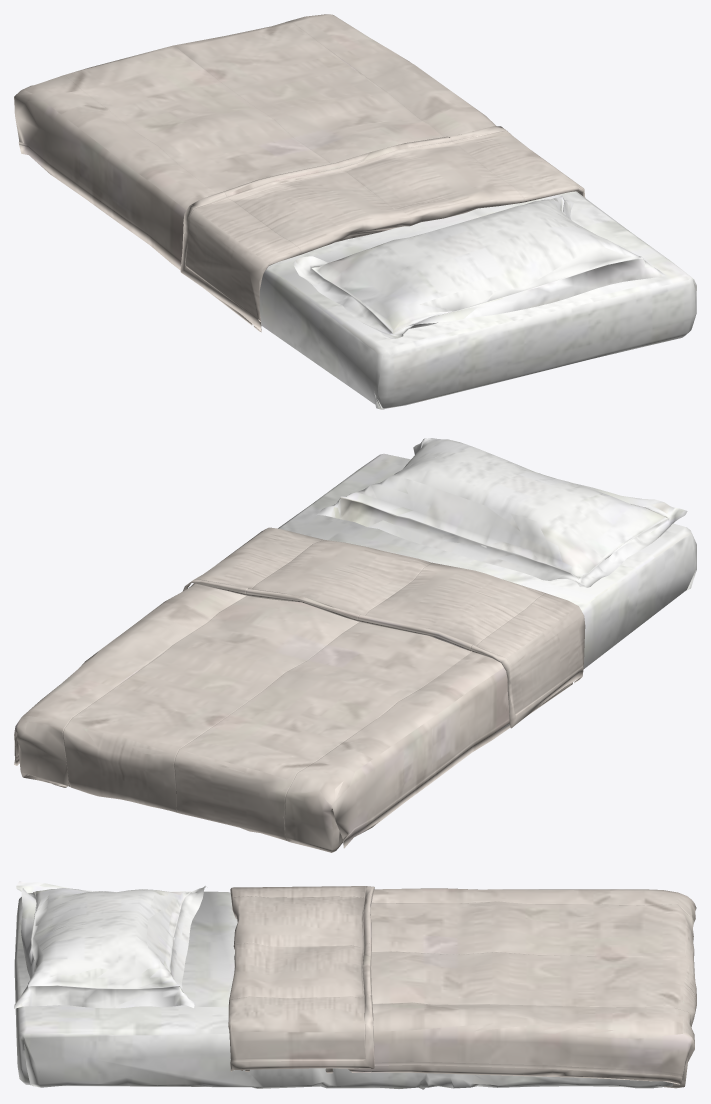
Rendered from 장식품08.glb.
3 renders of one model, top to bottom at view 1: azimuth 30°, elevation 25°; view 2: azimuth 150°, elevation 25°; view 3: azimuth 270°, elevation 25°, orthographic. The views are drawn at different scales.
Parts seen in each view (by area): view 1: blunket_StaticMeshComponent0, sheet01_StaticMeshComponent0, pillow_StaticMeshComponent0; view 2: blunket_StaticMeshComponent0, pillow_StaticMeshComponent0, sheet01_StaticMeshComponent0; view 3: blunket_StaticMeshComponent0, sheet01_StaticMeshComponent0, pillow_StaticMeshComponent0.
Part boxes in pixels (x1,y1,x2,y2): blunket_StaticMeshComponent0: (14,14,585,332); sheet01_StaticMeshComponent0: (174,191,696,409); pillow_StaticMeshComponent0: (292,195,666,338); blunket_StaticMeshComponent0: (14,527,585,852); pillow_StaticMeshComponent0: (316,438,687,587); sheet01_StaticMeshComponent0: (278,453,696,733); blunket_StaticMeshComponent0: (228,886,696,1088); sheet01_StaticMeshComponent0: (14,891,673,1089); pillow_StaticMeshComponent0: (14,881,205,1008).
Size of the model in its own units: 1 by 0.3416 by 1.92.
3 materials, 3 textured.
